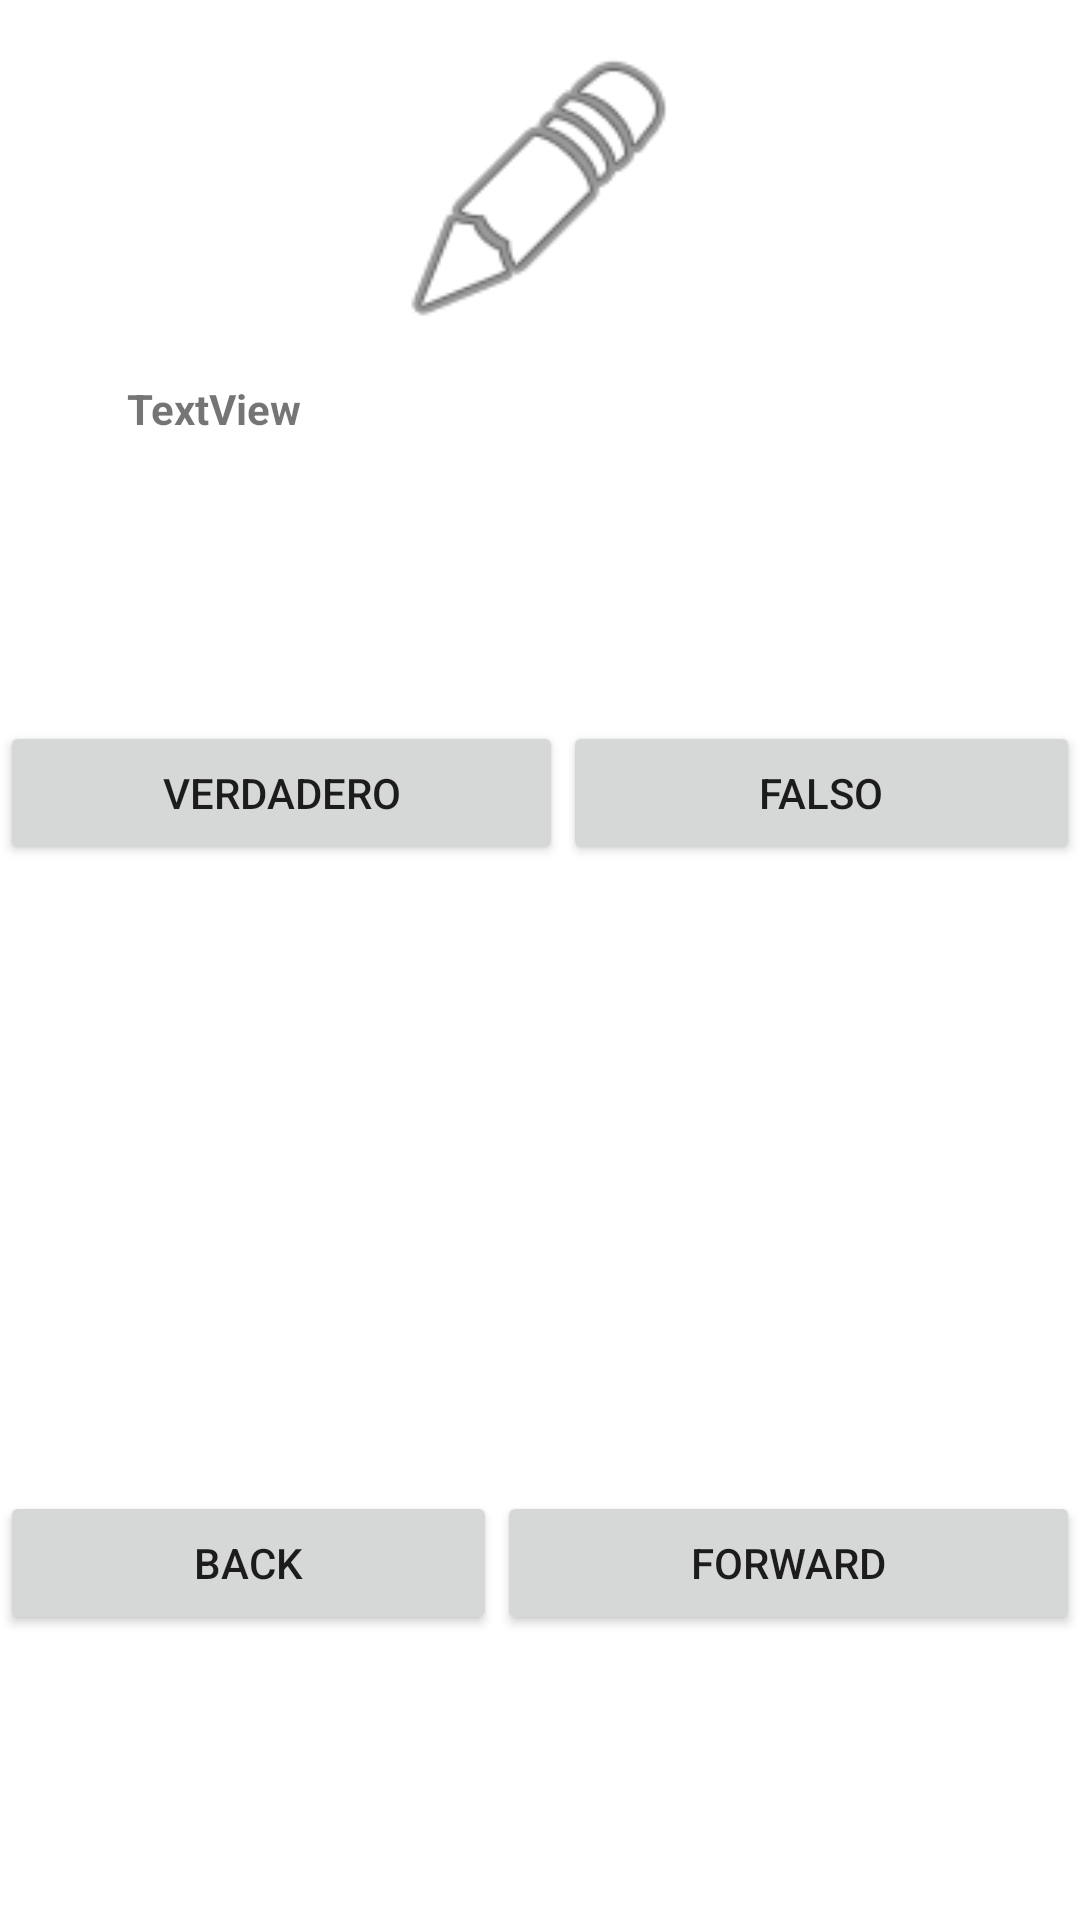

Where icons sit on this 1080x1920 app screen, as (x1, y1, x2, y2):
edit: (412, 61, 666, 315)
